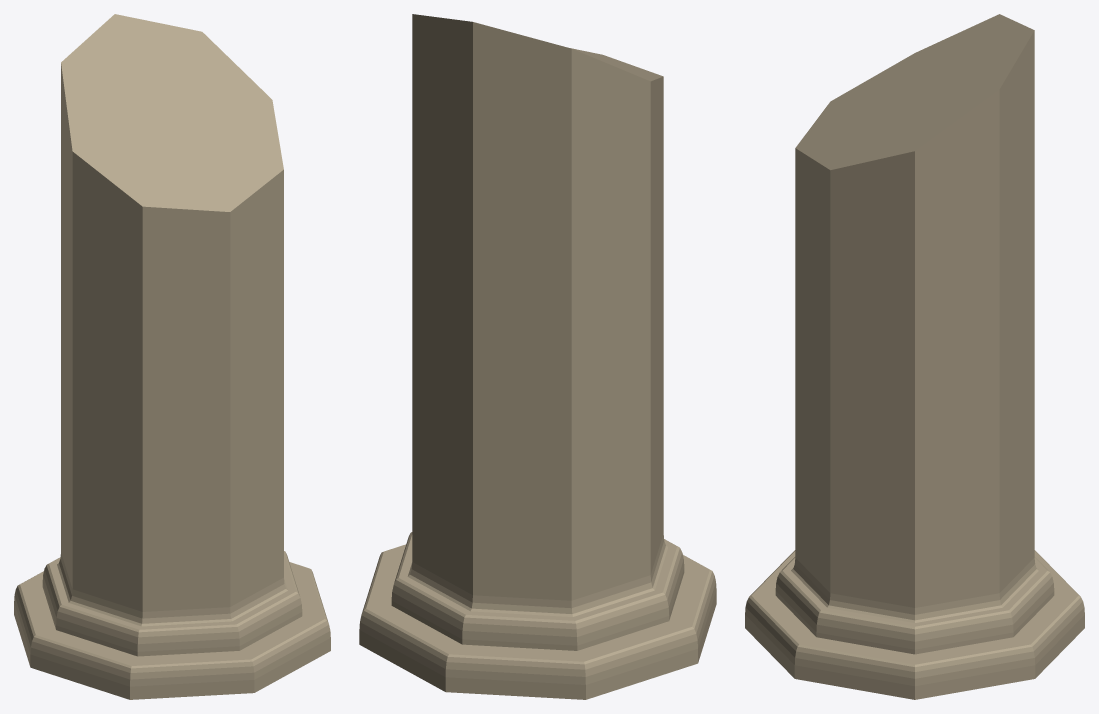
The model's file is Column_Broken_Var2.fbx.
3 renders of one model, left to right at view 1: azimuth 30°, elevation 25°; view 2: azimuth 150°, elevation 25°; view 3: azimuth 270°, elevation 25°, orthographic. The views are drawn at different scales.
Parts seen in each view (by area): view 1: Column_Broken_Variant_1; view 2: Column_Broken_Variant_1; view 3: Column_Broken_Variant_1.
Part boxes in pixels (left/top/right/bottom): Column_Broken_Variant_1: left=14, top=14, right=330, bottom=699; Column_Broken_Variant_1: left=359, top=14, right=716, bottom=699; Column_Broken_Variant_1: left=745, top=14, right=1084, bottom=699.
Size of the model in its own units: 79.83 by 79.83 by 155.
